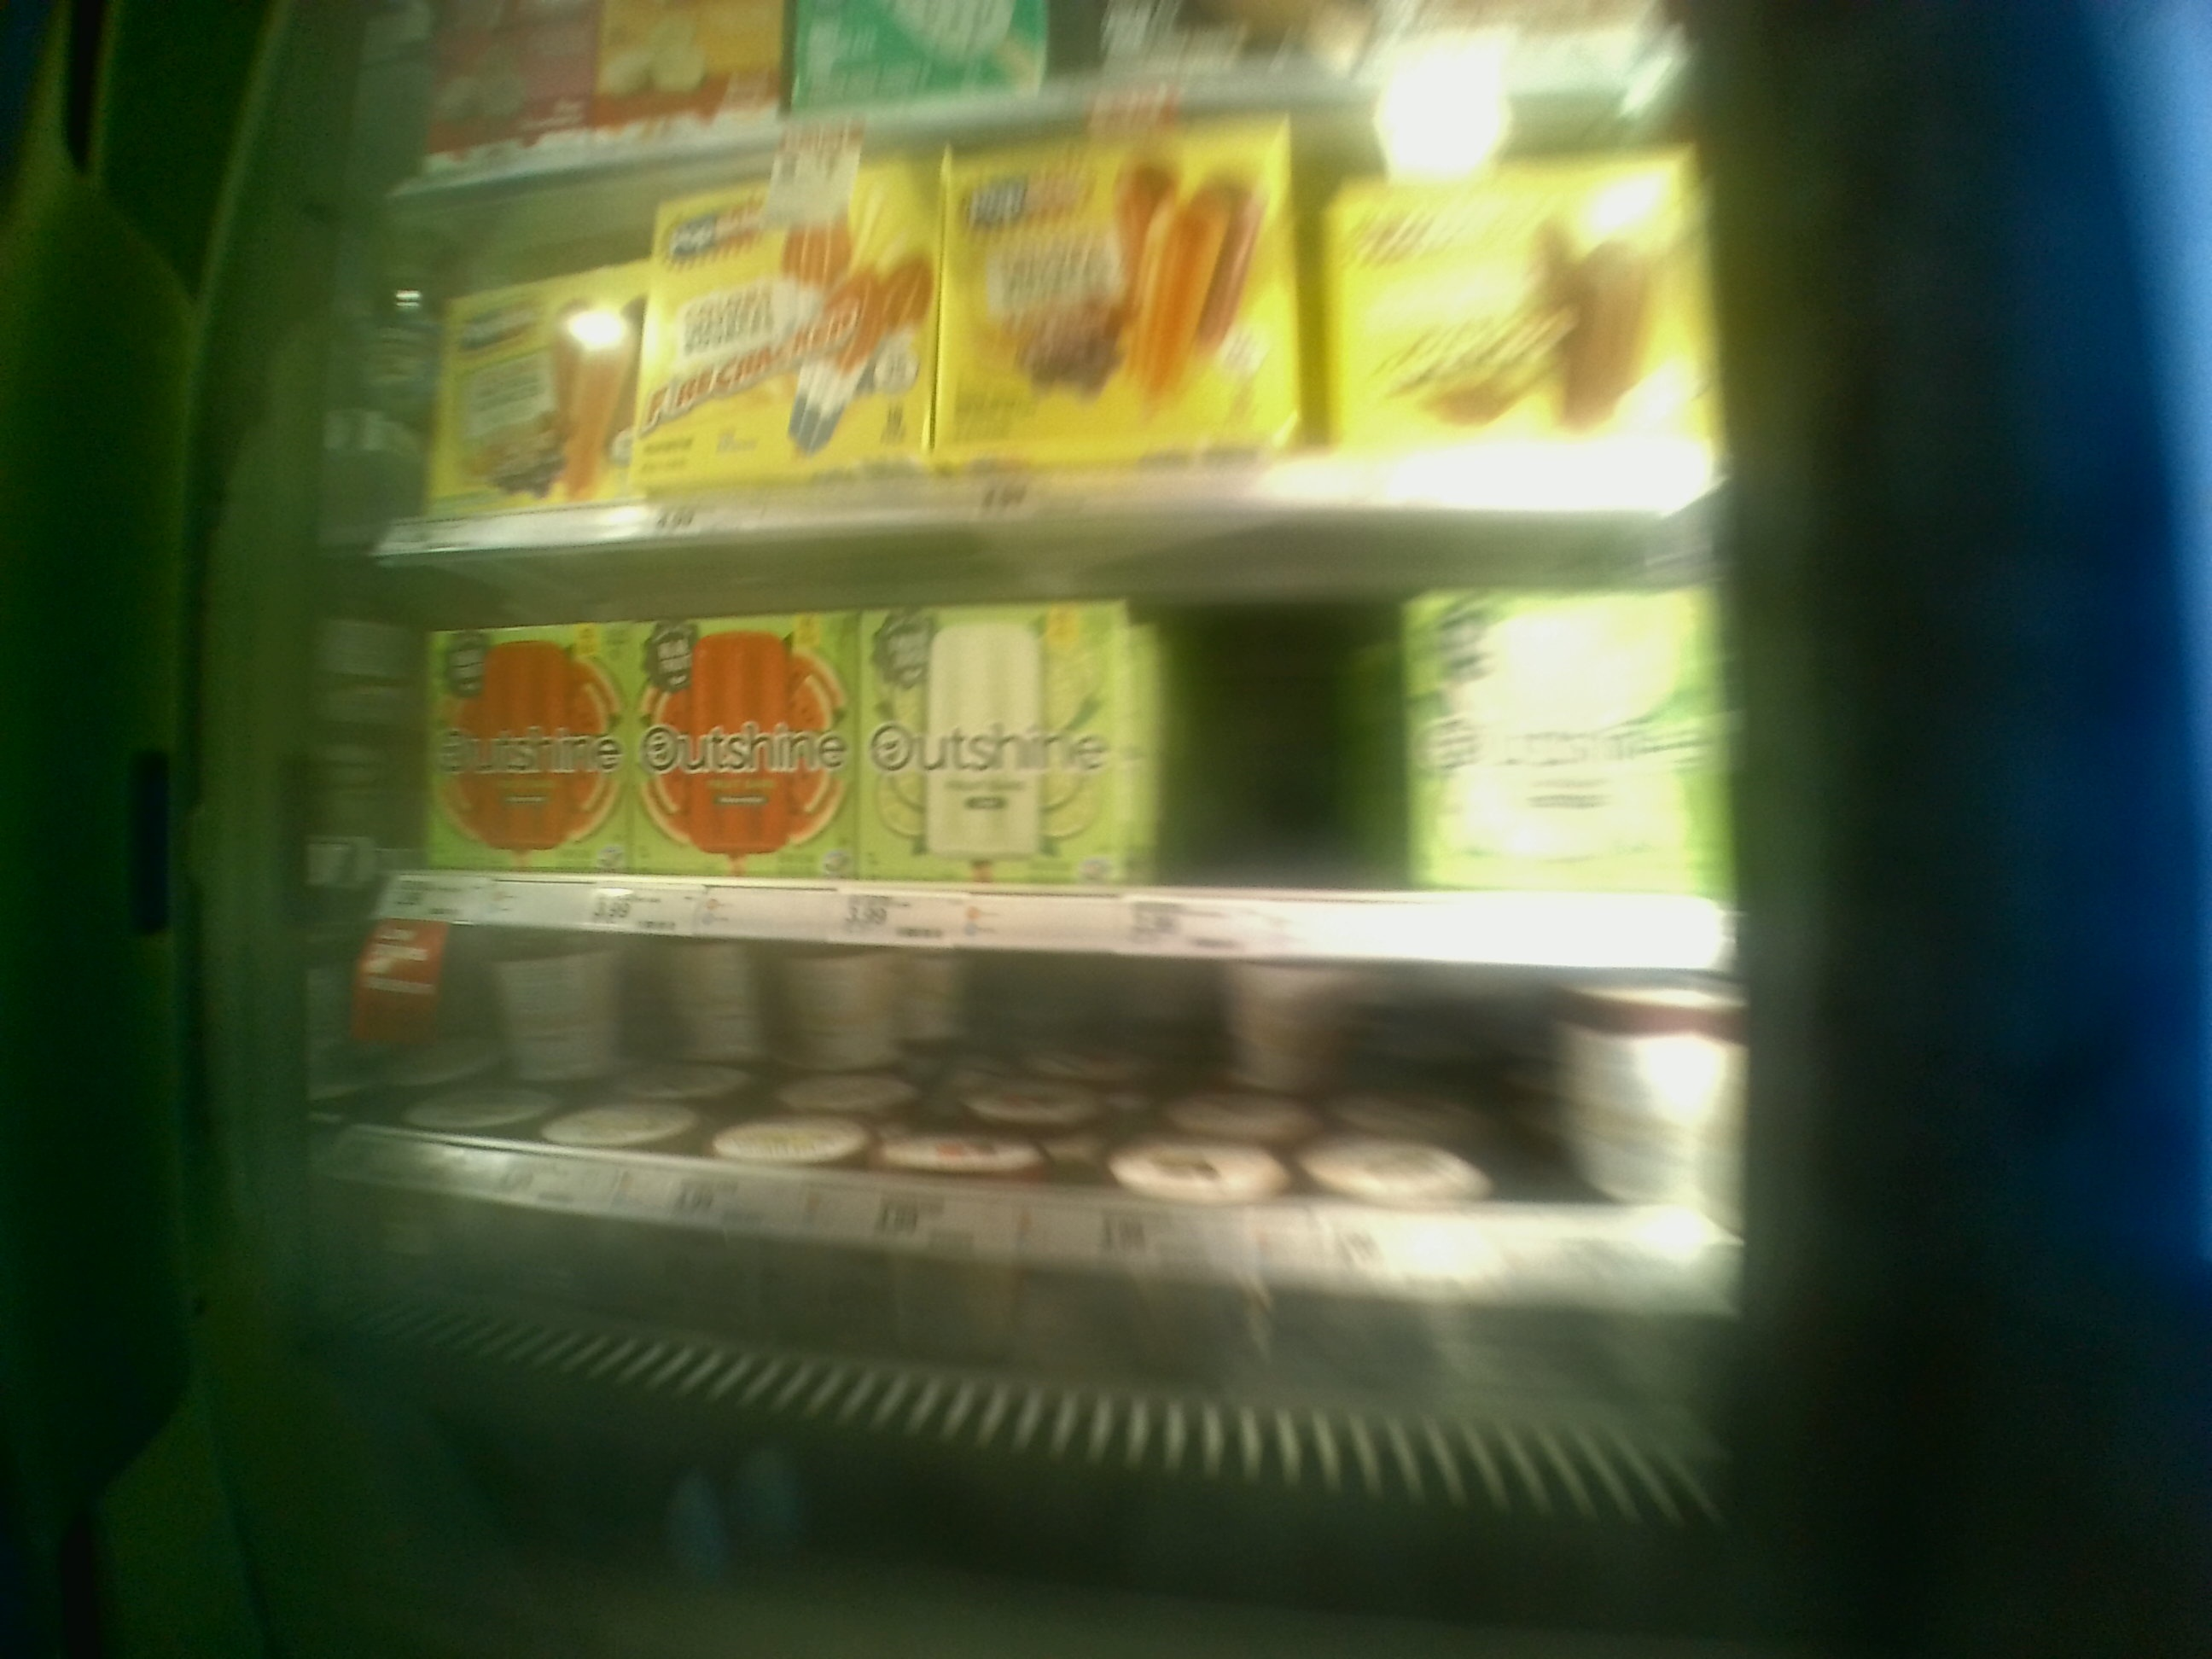ice-cream-shelf: (380, 547, 1743, 943), (381, 918, 1740, 1279)
